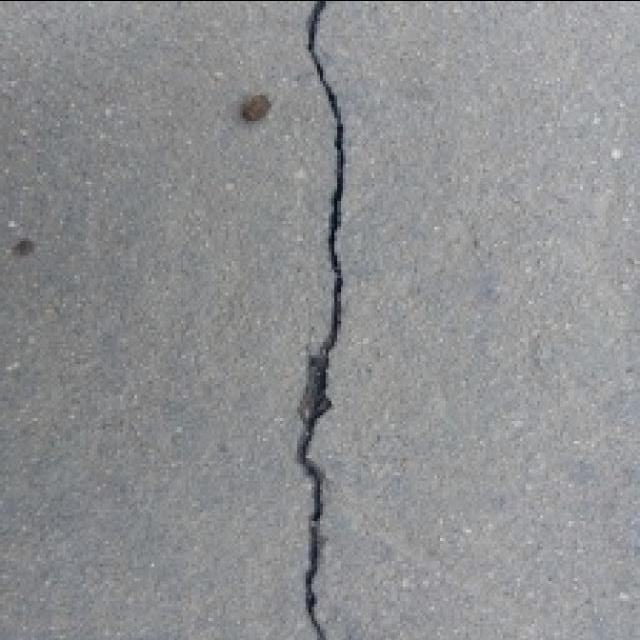SurfaceCrack: (246, 0, 368, 640)
